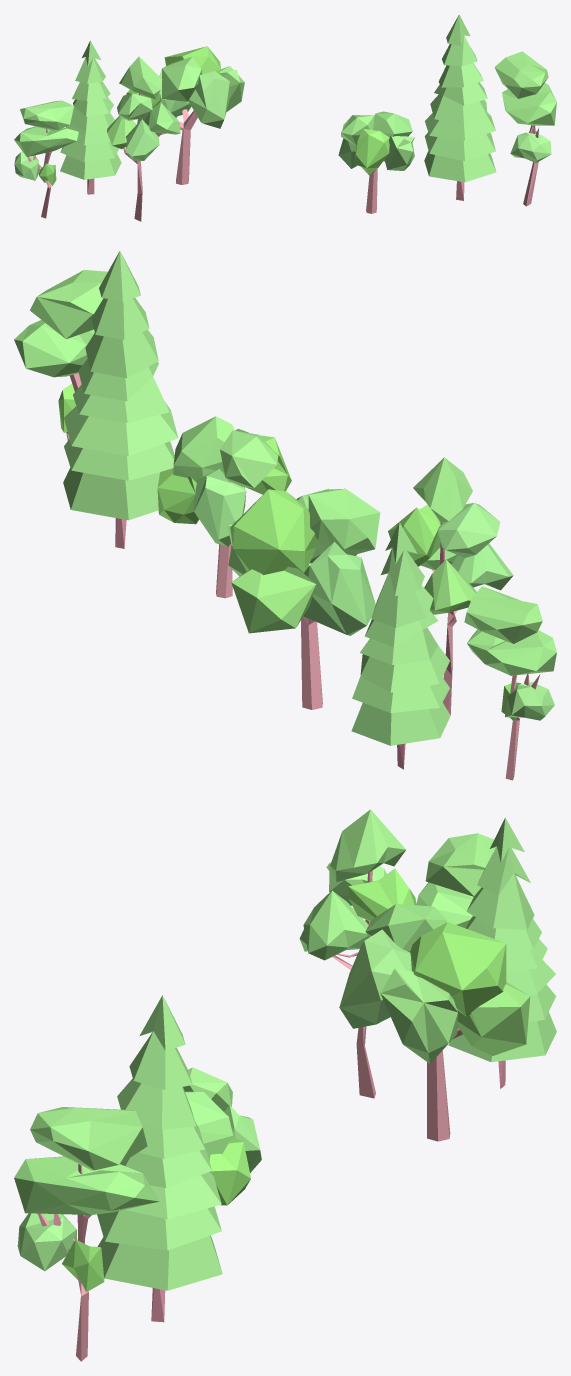
Rendered from ForestSideRails1.fbx.
3 renders of one model, top to bottom at view 1: azimuth 30°, elevation 25°; view 2: azimuth 150°, elevation 25°; view 3: azimuth 270°, elevation 25°, orthographic. The views are drawn at different scales.
Visible parts, largest first — view 1: Forest.016; view 2: Forest.016; view 3: Forest.016.
Boxes of the visible parts, box(x1,y1,x2,y2) form: Forest.016: box(14, 14, 556, 221); Forest.016: box(14, 251, 556, 780); Forest.016: box(14, 809, 556, 1361).
Bounding box in the file's own units: 868 × 361 × 541.
